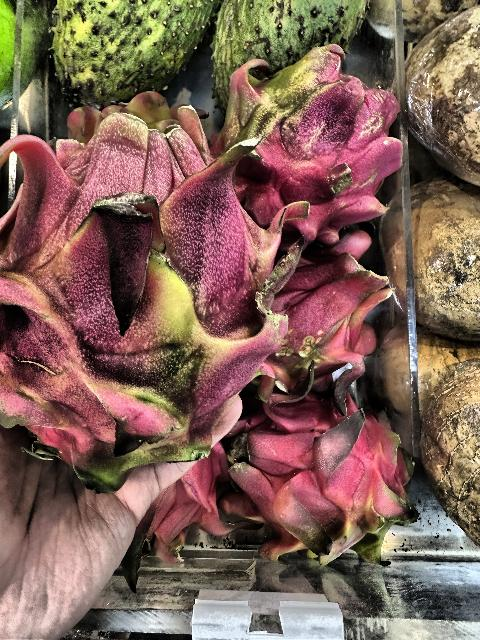buah-naga-belum-matang: (0, 127, 272, 469), (223, 398, 414, 564), (225, 54, 407, 226), (273, 255, 395, 398)
